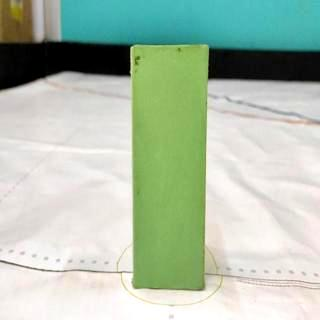greenbox: (130, 44, 207, 290)
